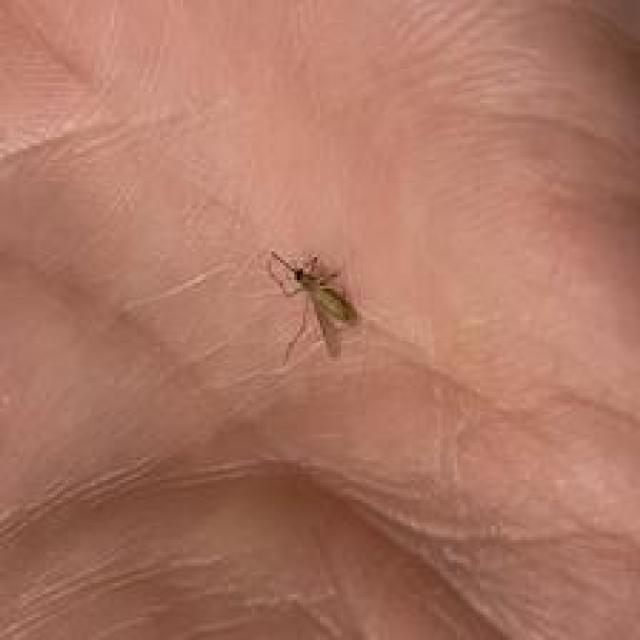Culex: (264, 248, 359, 366)
